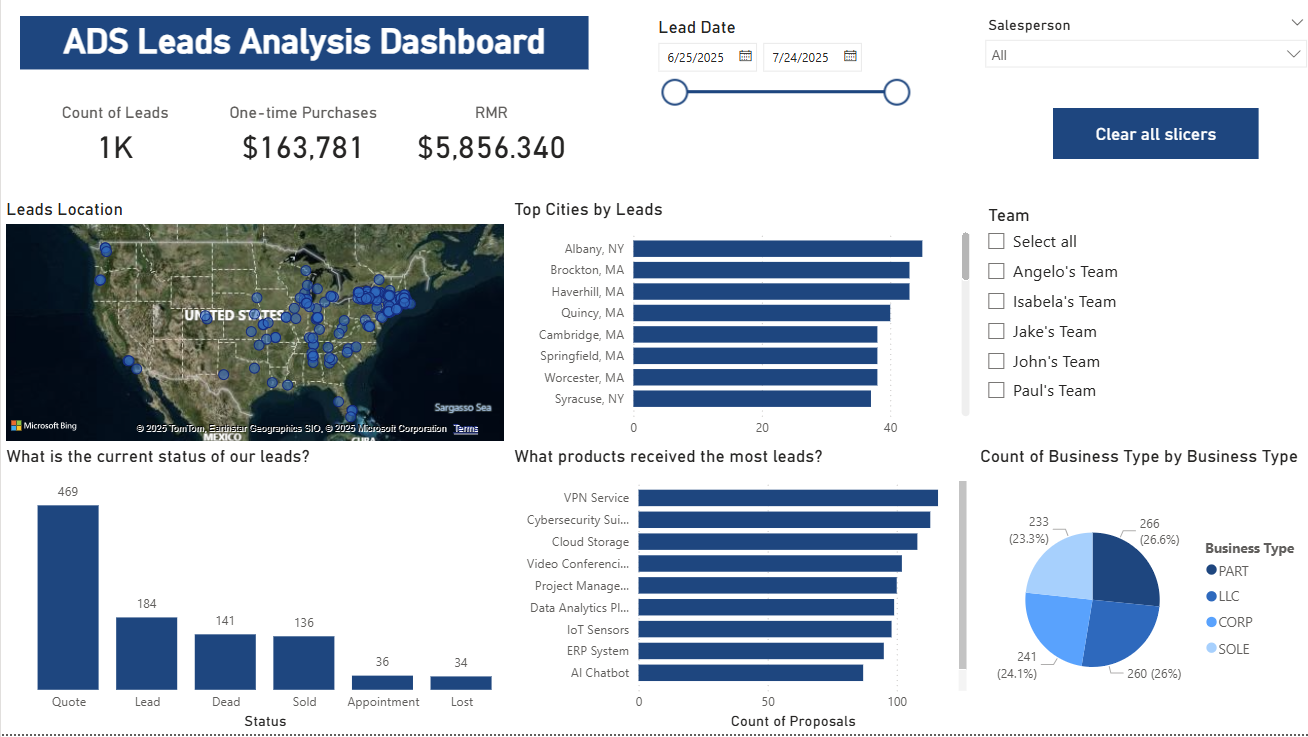

This screenshot's page, from the dashboard's own definition file:
{"tool":"powerbi","page":{"name":"Leads","canvas":[1280,720],"ordinal":0},"visuals":[{"type":"slicer","fields":{"Values":["proposals_table.Lead Date"]},"box":[626.4,16.5,265.5,151.7],"z":0},{"type":"slicer","fields":{"Values":["proposals_table.Salesperson"]},"box":[947.4,16.5,332.6,72],"z":1000},{"type":"map","title":"Leads Location","fields":{"Category":["proposals_table.Full Address"]},"box":[0,199.4,494.1,240.2],"z":2000},{"type":"barChart","title":"Top Cities by Leads","fields":{"Y":["proposals_table.Full Address"],"Category":["proposals_table.City & State"]},"box":[494.1,199.4,453.3,240.2],"z":3000},{"type":"columnChart","title":"What is the current status of our leads?","fields":{"Category":["proposals_table.Status"],"Y":["proposals_table.Status"]},"box":[0,439.6,514.5,280.1],"z":4000},{"type":"pieChart","fields":{"Category":["proposals_table.Business Type"],"Y":["proposals_table.Business Type"]},"box":[947.4,439.6,332.6,280.1],"z":5000},{"type":"textbox","box":[18.5,21.4,553.4,51.6],"z":6000},{"type":"slicer","fields":{"Values":["proposals_table.Team"]},"box":[947.4,199.4,332.6,240.2],"z":7000},{"type":"actionButton","box":[1023.2,110.9,200.4,49.6],"z":8000},{"type":"cardVisual","fields":{"Data":["proposals_table.No.","proposals_table.Purchase","proposals_table.Subscription"]},"box":[18.5,88.5,553.4,94.3],"z":10000},{"type":"clusteredBarChart","title":"What products received the most leads?","fields":{"Category":["proposals_table.Product"],"Y":["proposals_table.Product"]},"box":[494.1,439.6,450.3,280.1],"z":10500}]}

Visuals, with their boxes in screenshot pixels (x1, y1, x2, y2), scaled from the page's 1280x720 canvas onto the 1308x737 screenshot:
slicer - proposals_table.Lead Date: rect(640, 17, 911, 172)
slicer - proposals_table.Salesperson: rect(968, 17, 1307, 91)
"Leads Location" map: rect(0, 204, 505, 450)
"Top Cities by Leads" barChart: rect(505, 204, 968, 450)
"What is the current status of our leads?" columnChart: rect(0, 450, 526, 736)
pieChart - proposals_table.Business Type x proposals_table.Business Type: rect(968, 450, 1307, 736)
textbox: rect(19, 22, 584, 75)
slicer - proposals_table.Team: rect(968, 204, 1307, 450)
actionButton: rect(1046, 114, 1250, 164)
cardVisual - proposals_table.No. x proposals_table.Purchase: rect(19, 91, 584, 187)
"What products received the most leads?" clusteredBarChart: rect(505, 450, 965, 736)
